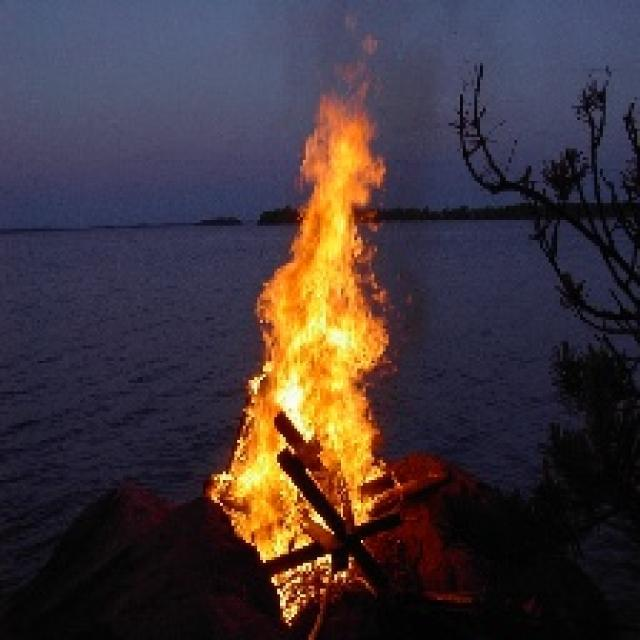Fire: (213, 100, 402, 598)
